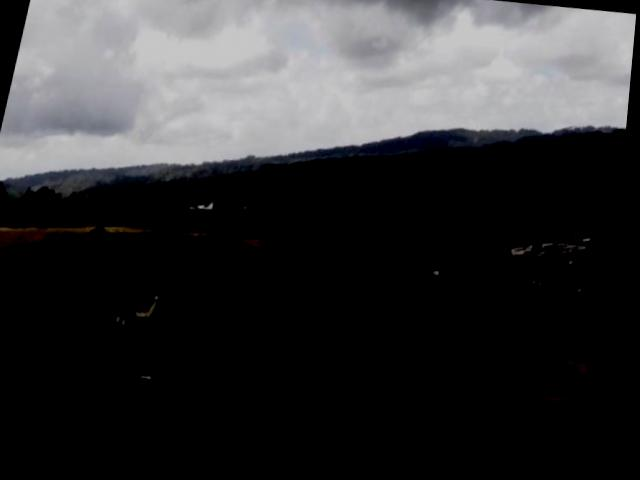iha: (190, 202, 221, 218)
